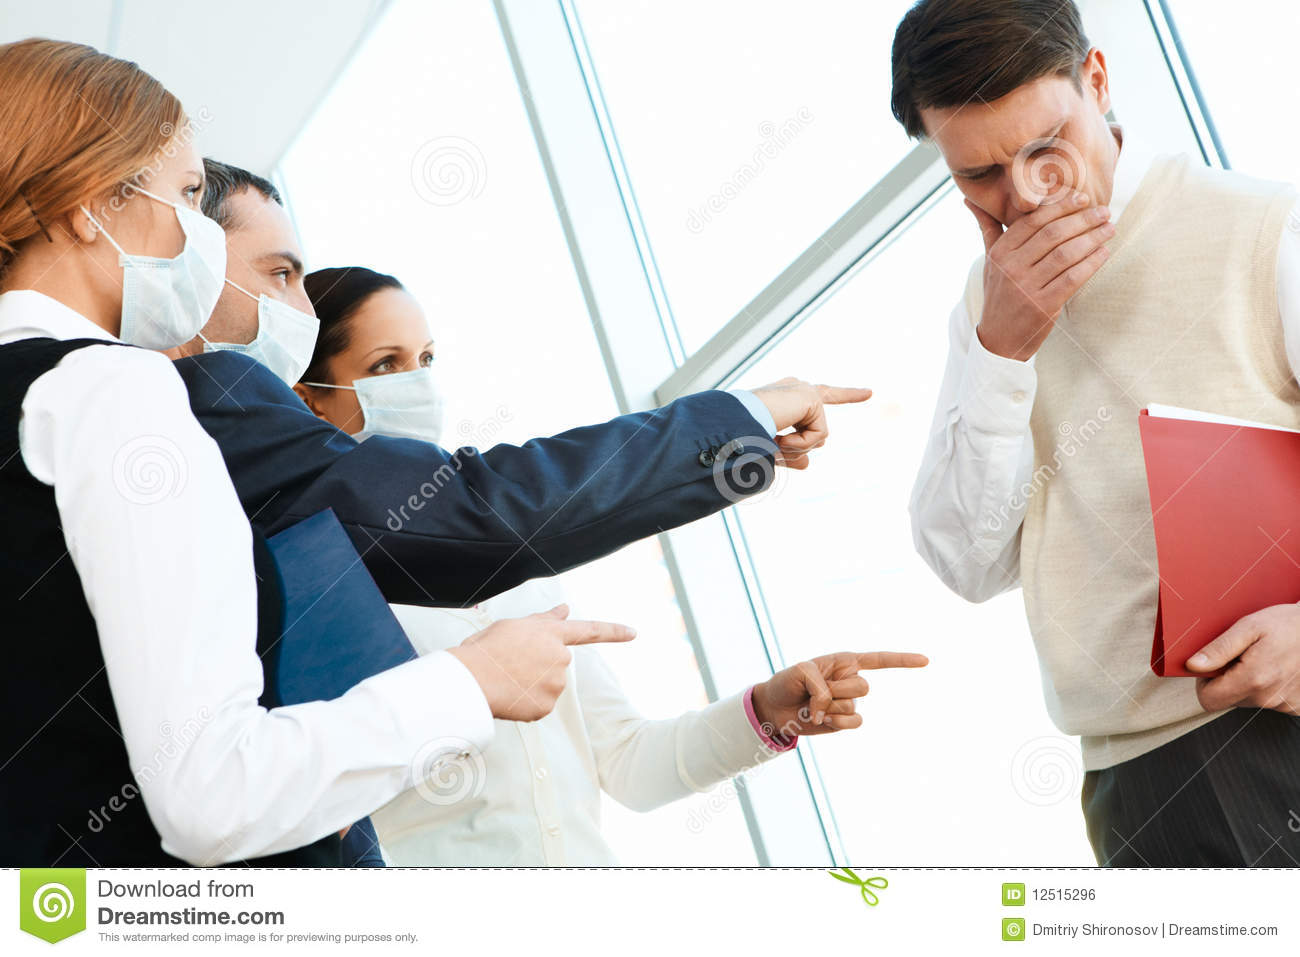mask: (126, 227, 248, 342), (251, 296, 339, 396), (360, 366, 448, 464)
